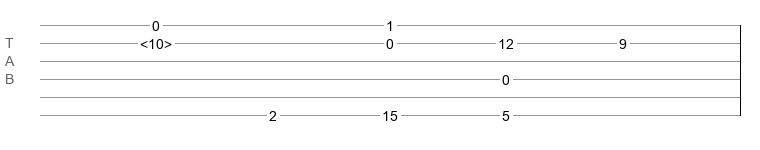0: (152, 18, 160, 28), (386, 36, 394, 46), (502, 72, 510, 82)
1: (386, 18, 394, 28)
12: (498, 36, 514, 46)
15: (382, 108, 398, 118)
2: (269, 108, 277, 118)
5: (502, 108, 510, 118)
9: (619, 36, 627, 46)
harmonic: (140, 36, 172, 46)
